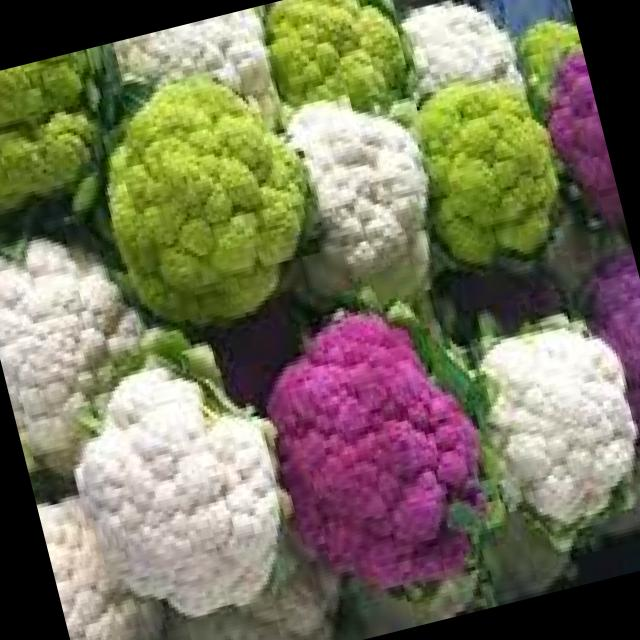cayliflower: (235, 268, 518, 621), (45, 320, 317, 640), (58, 40, 340, 348), (438, 275, 640, 580), (255, 51, 460, 320), (0, 196, 190, 472), (402, 50, 576, 284), (28, 442, 209, 640), (96, 2, 298, 160), (0, 45, 142, 261), (135, 514, 362, 640), (250, 0, 427, 143), (527, 39, 630, 256), (374, 0, 536, 136), (574, 218, 640, 537), (507, 3, 593, 108)
